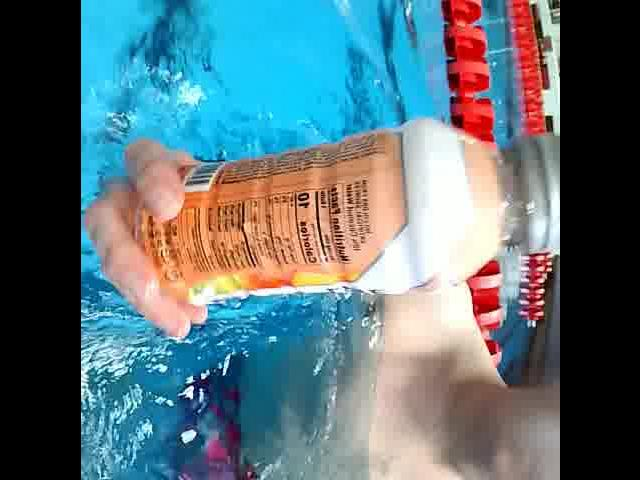Bottle: (138, 80, 560, 332)
